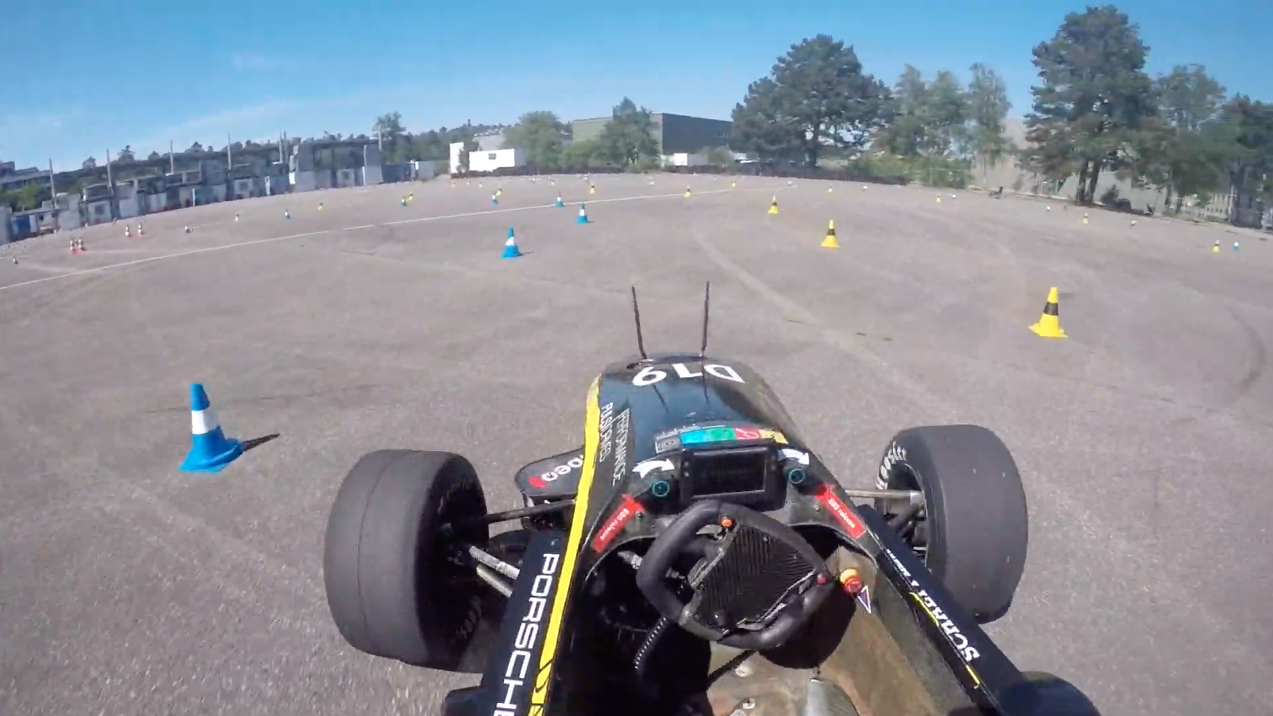lcone: (174, 379, 246, 476), (498, 224, 523, 260), (572, 200, 592, 226)
rcone: (1025, 282, 1071, 342), (819, 216, 845, 251), (766, 194, 780, 216)
